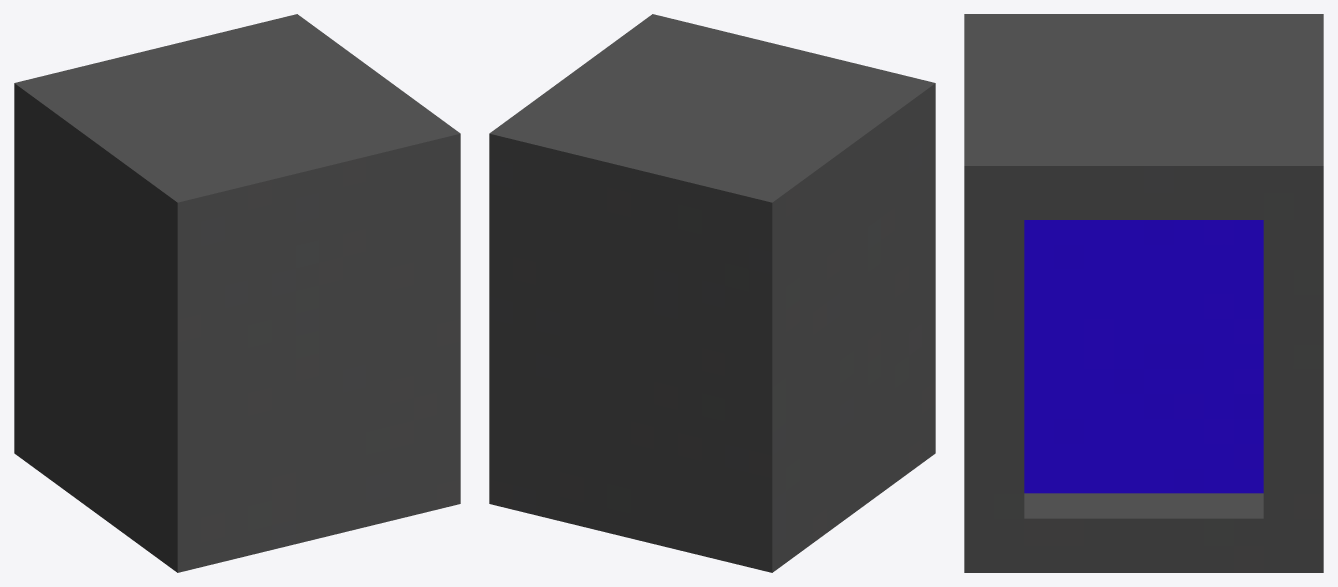
The model's file is DCPU_model.gltf.
3 renders of one model, left to right at view 1: azimuth 30°, elevation 25°; view 2: azimuth 150°, elevation 25°; view 3: azimuth 270°, elevation 25°, orthographic. The views are drawn at different scales.
Visible parts, largest first — view 1: cube (×5); view 2: cube (×5); view 3: cube (×5).
Boxes of the visible parts, x1=… form: cube (×5): x1=14, y1=14, x2=460, y2=572; cube (×5): x1=489, y1=14, x2=935, y2=572; cube (×5): x1=964, y1=14, x2=1323, y2=572.
Size of the model in its own units: 0.75 by 0.9375 by 0.75.
Materials: 2 (2 with a texture image).
